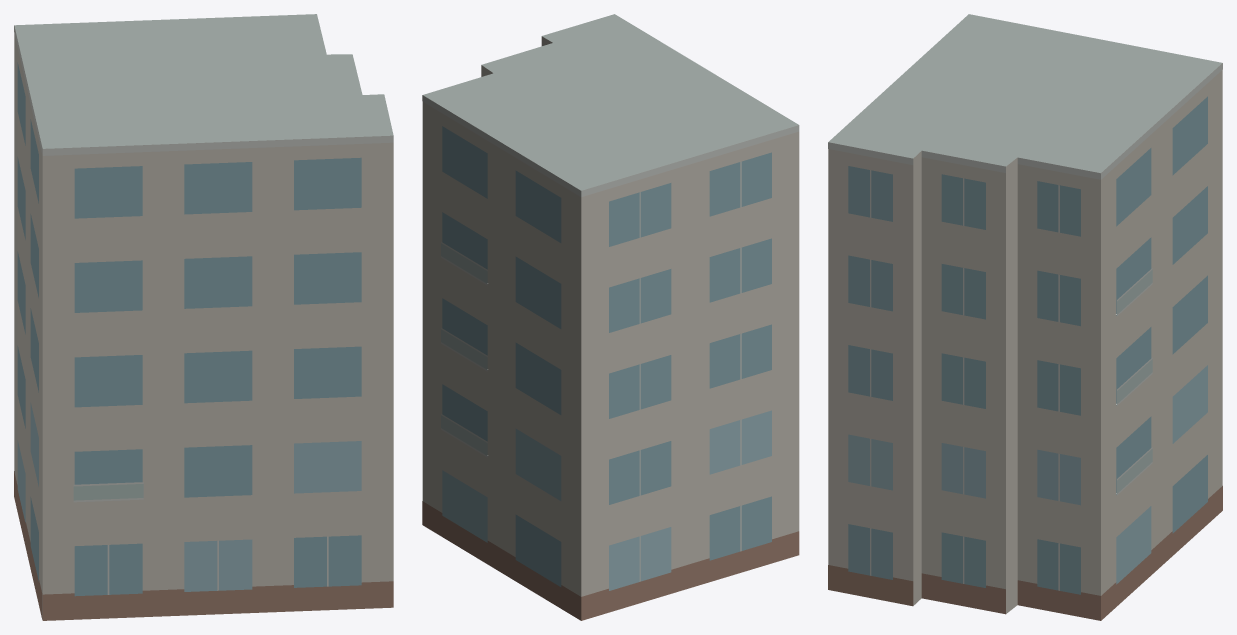
Rendered from survey-upis-33024271.glb.
The picture shows the model from 3 angles, left to right: view 1: azimuth 30°, elevation 25°; view 2: azimuth 150°, elevation 25°; view 3: azimuth 270°, elevation 25°; orthographic projection. The views are drawn at different scales.
Parts seen in each view (by area): view 1: survey-upis-33024271.tmp; view 2: survey-upis-33024271.tmp; view 3: survey-upis-33024271.tmp.
Part boxes in pixels (x1=…): survey-upis-33024271.tmp: x1=14, y1=14, x2=393, y2=620; survey-upis-33024271.tmp: x1=422, y1=14, x2=799, y2=620; survey-upis-33024271.tmp: x1=828, y1=14, x2=1222, y2=620.
Size of the model in its own units: 12.52 by 16.4 by 13.11.
